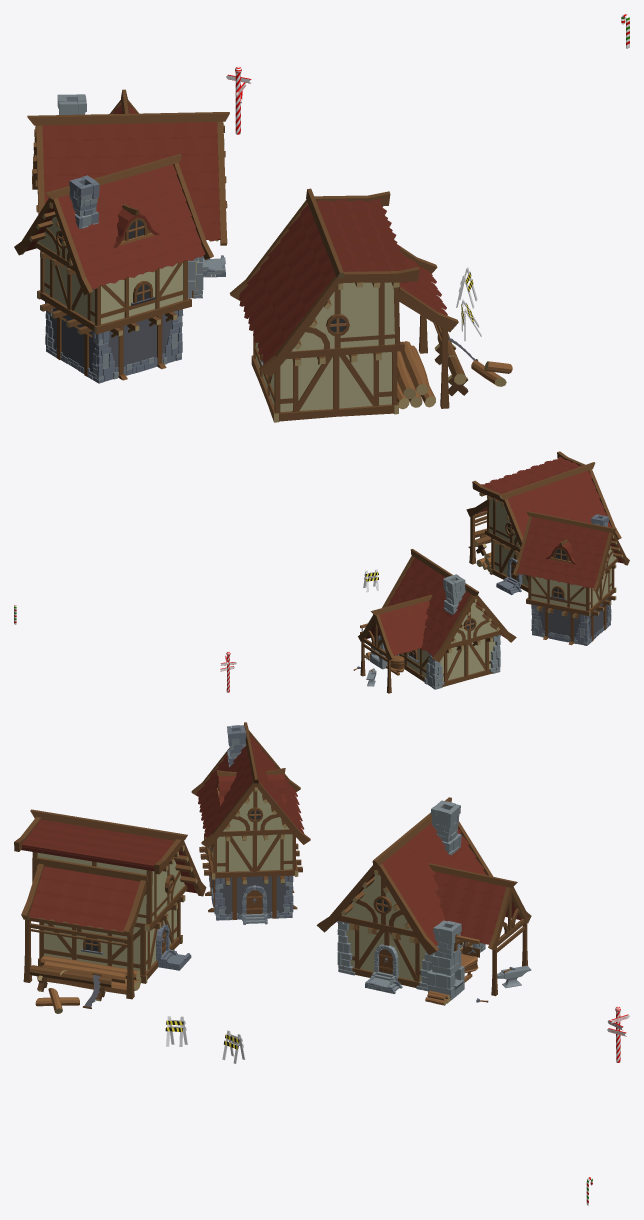
File: Village.glb
The picture shows the model from 3 angles, top to bottom: view 1: azimuth 30°, elevation 25°; view 2: azimuth 150°, elevation 25°; view 3: azimuth 270°, elevation 25°; orthographic projection. The views are drawn at different scales.
Visible parts, largest first — view 1: Sawmill, House_1, Blacksmith; view 2: Blacksmith, House_1, Sawmill; view 3: Sawmill, Blacksmith, House_1.
Part boxes in pixels (x1,y1,x2,y2): Sawmill: [229, 188, 512, 422]; House_1: [14, 154, 213, 383]; Blacksmith: [27, 89, 229, 298]; Blacksmith: [353, 549, 516, 693]; House_1: [513, 511, 629, 645]; Sawmill: [466, 451, 621, 594]; Sawmill: [14, 809, 206, 1013]; Blacksmith: [316, 797, 531, 1005]; House_1: [191, 722, 310, 924].
Size of the model in its own units: 104 by 26.86 by 84.41.
Materials: 21 (2 with a texture image).
